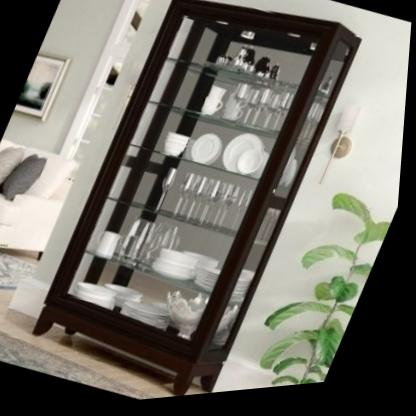Cupboard: (23, 0, 371, 412)
